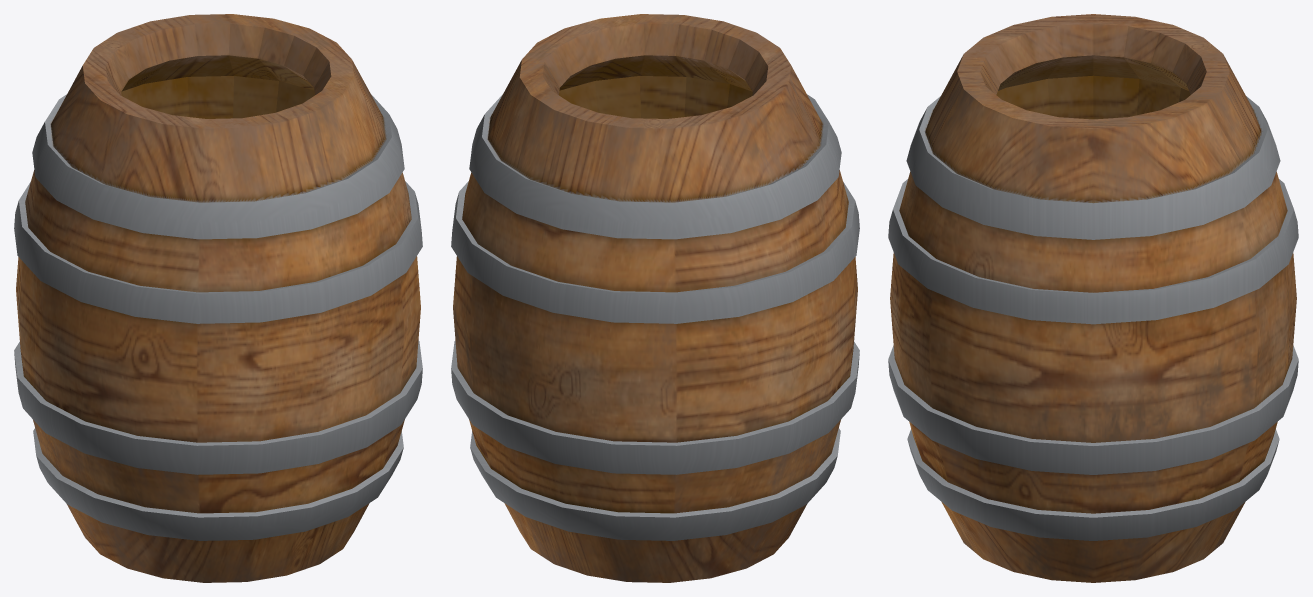
Rendered from ThungNam.fbx.
The picture shows the model from 3 angles, left to right: view 1: azimuth 30°, elevation 25°; view 2: azimuth 150°, elevation 25°; view 3: azimuth 270°, elevation 25°; orthographic projection.
Parts seen in each view (by area): view 1: ThungNam; view 2: ThungNam; view 3: ThungNam.
Part boxes in pixels (left/top/right/bottom): ThungNam: left=14, top=14, right=422, bottom=582; ThungNam: left=451, top=14, right=859, bottom=582; ThungNam: left=888, top=14, right=1298, bottom=582.
Bounding box in the file's own units: 3 × 3.66 × 3.
